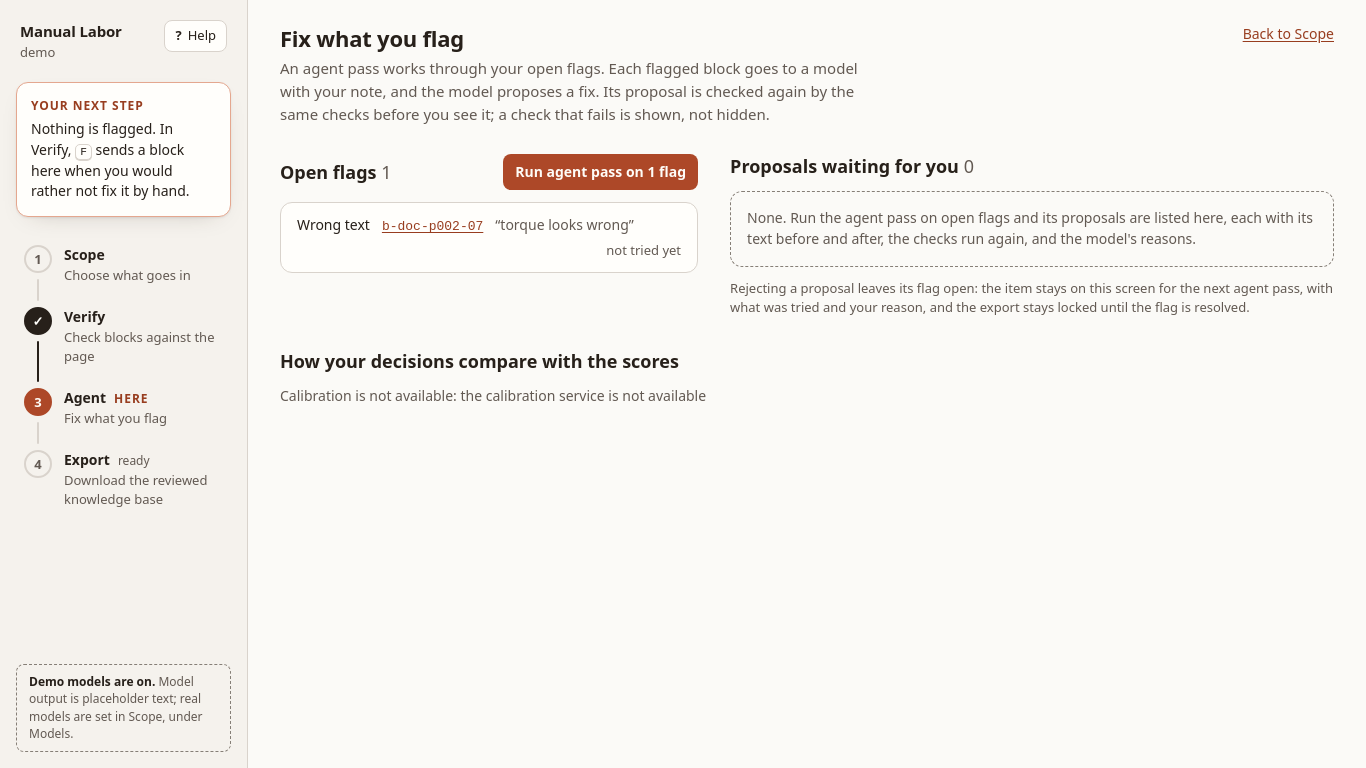
Test: L1 Export: focus stays with the reader, and results are announced › the agent pass outcome lands in a live region that was already on screen
This screenshot has width=1366, height=768.
Click the button with test id "agent-run" at (601,172), box [503, 154, 698, 190]
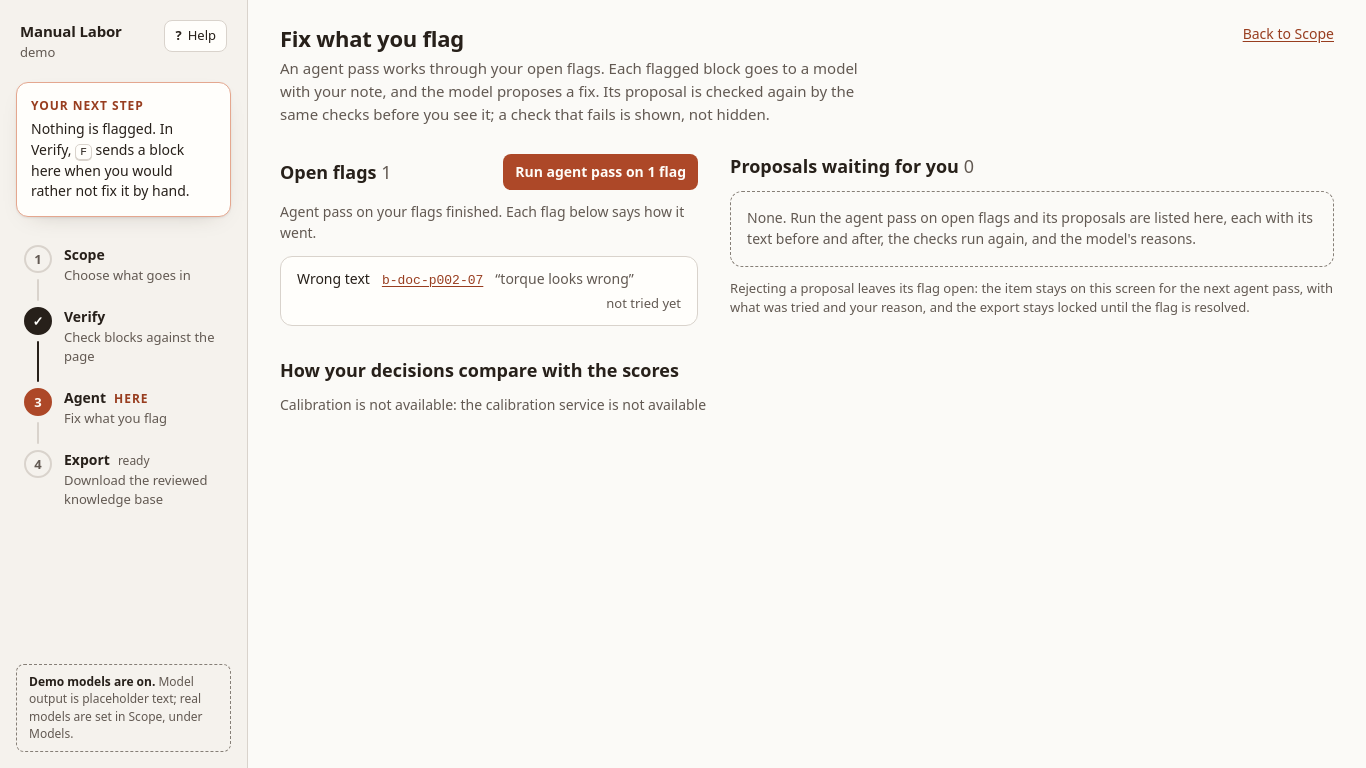
Check: the message with test id "agent-run-status" shows "Agent pass on your flags finished.", box [280, 202, 684, 242]
Check: the text with test id "agent-run-outcome" is shown, box [280, 202, 698, 244]
